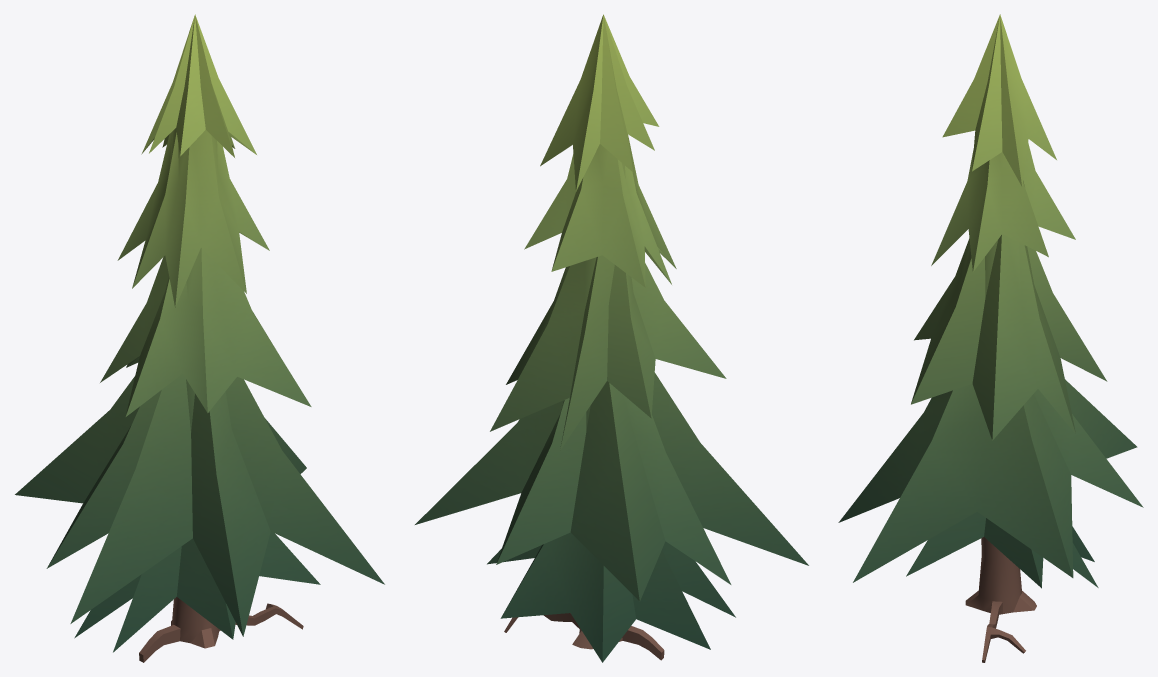
The model's file is Baum_groß.fbx.
3 renders of one model, left to right at view 1: azimuth 30°, elevation 25°; view 2: azimuth 150°, elevation 25°; view 3: azimuth 270°, elevation 25°, orthographic. The views are drawn at different scales.
Visible parts, largest first — view 1: tree_1; view 2: tree_1; view 3: tree_1.
Part boxes in pixels (x1,y1,x2,y2): tree_1: (15,14,384,662); tree_1: (415,14,808,662); tree_1: (838,14,1143,662).
Size of the model in its own units: 263 by 505 by 232.
